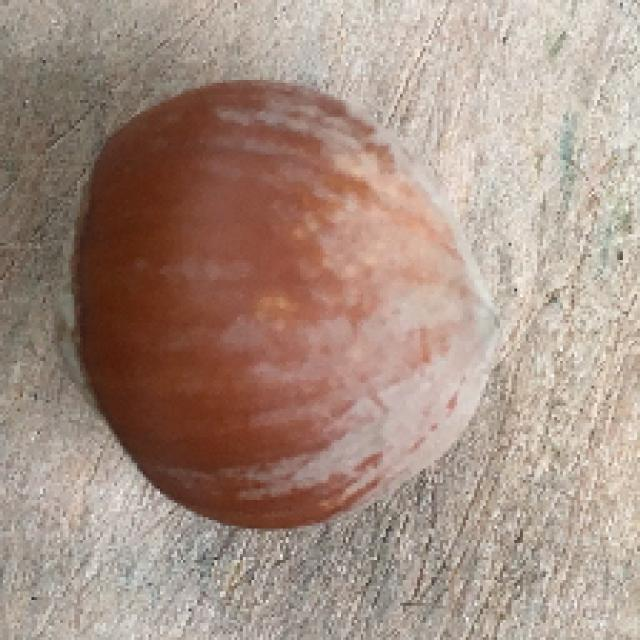QualityHazelnut: (54, 75, 511, 530)
